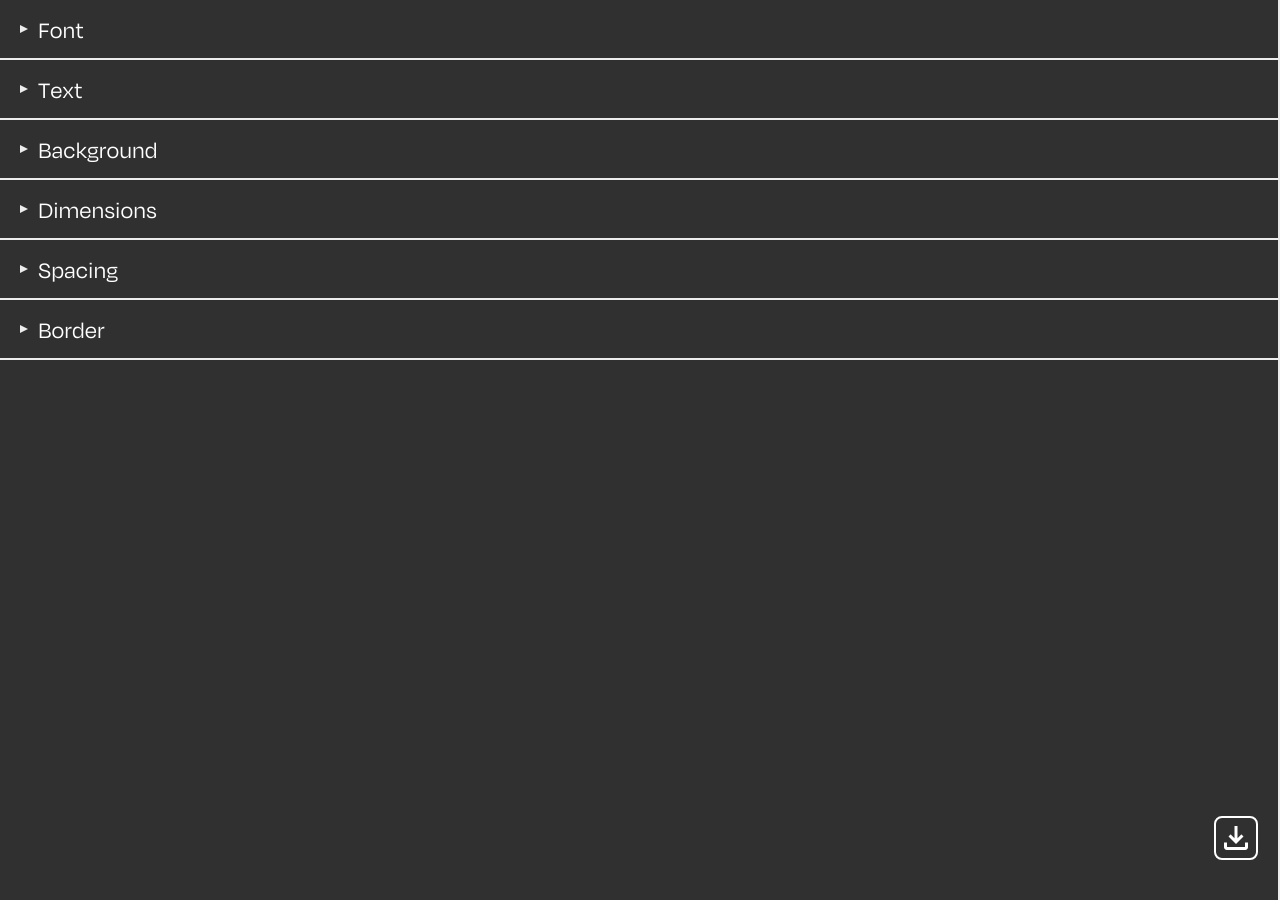
it: Editor 컴포넌트 › Dimensions 카테고리 버튼 클릭 시 Dimensions 에디터 영역을 표시한다
The width and height of the screenshot is (1280, 900).
Click the button "Dimensions" at (97, 209), box [0,180,1278,240]
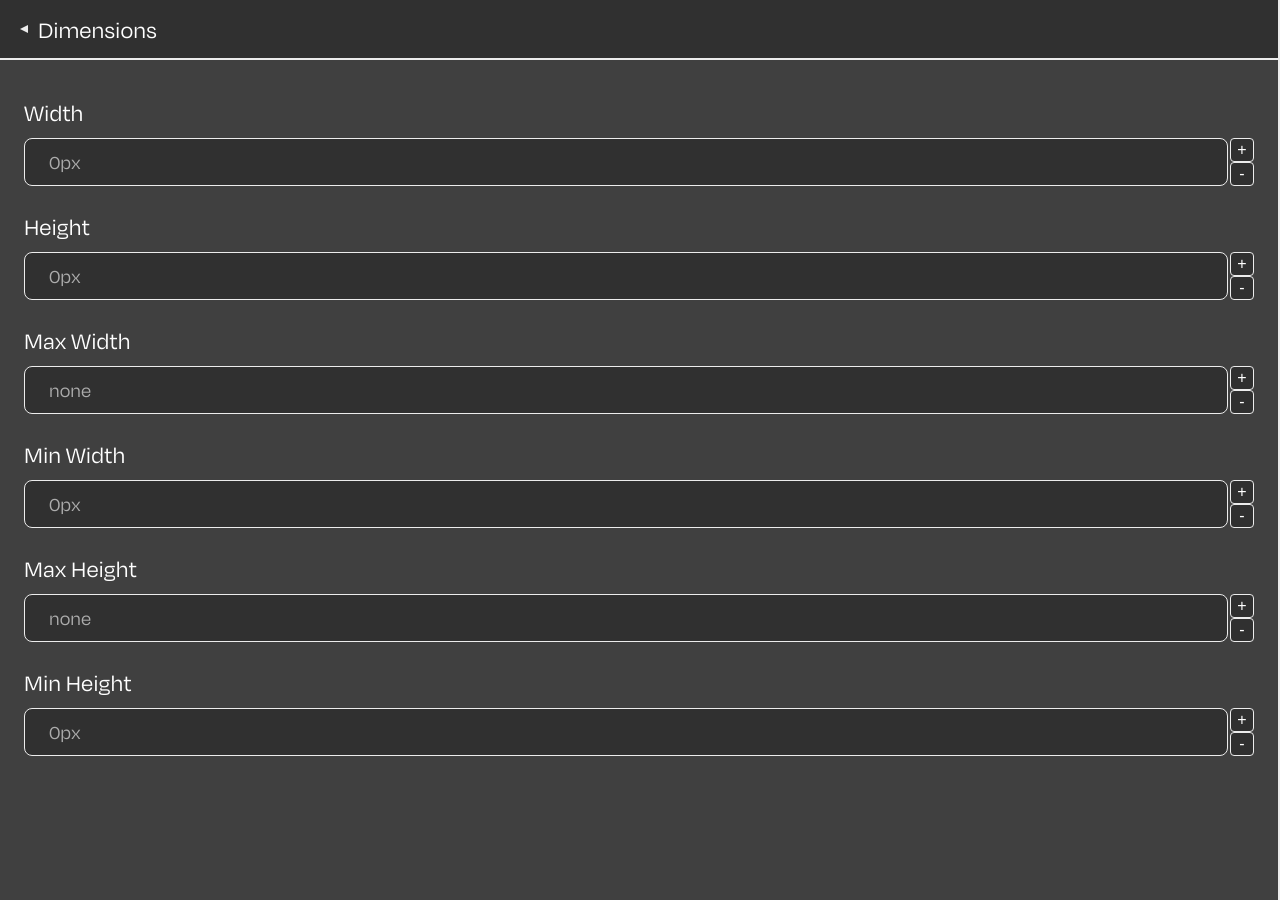
Check: the heading "Width" is shown, box [24,96,83,128]
Check: the heading "Height" is shown, box [24,210,90,242]
Check: the heading "Max Width" is shown, box [24,324,130,356]
